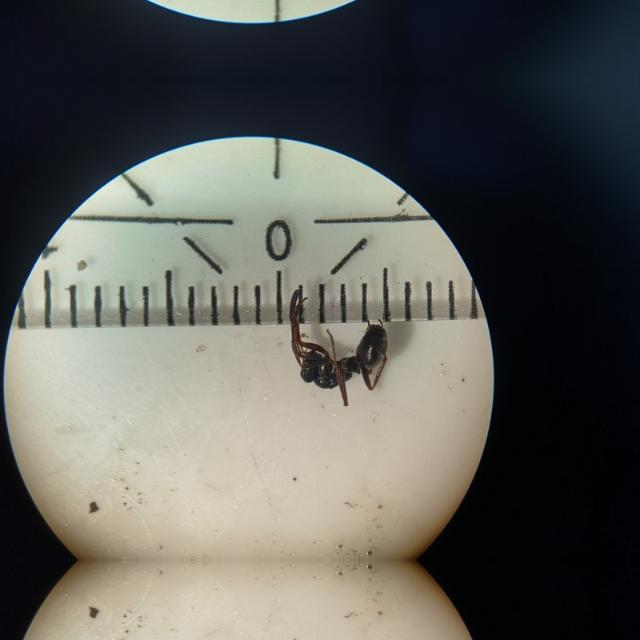Formica: (275, 317, 409, 401)
